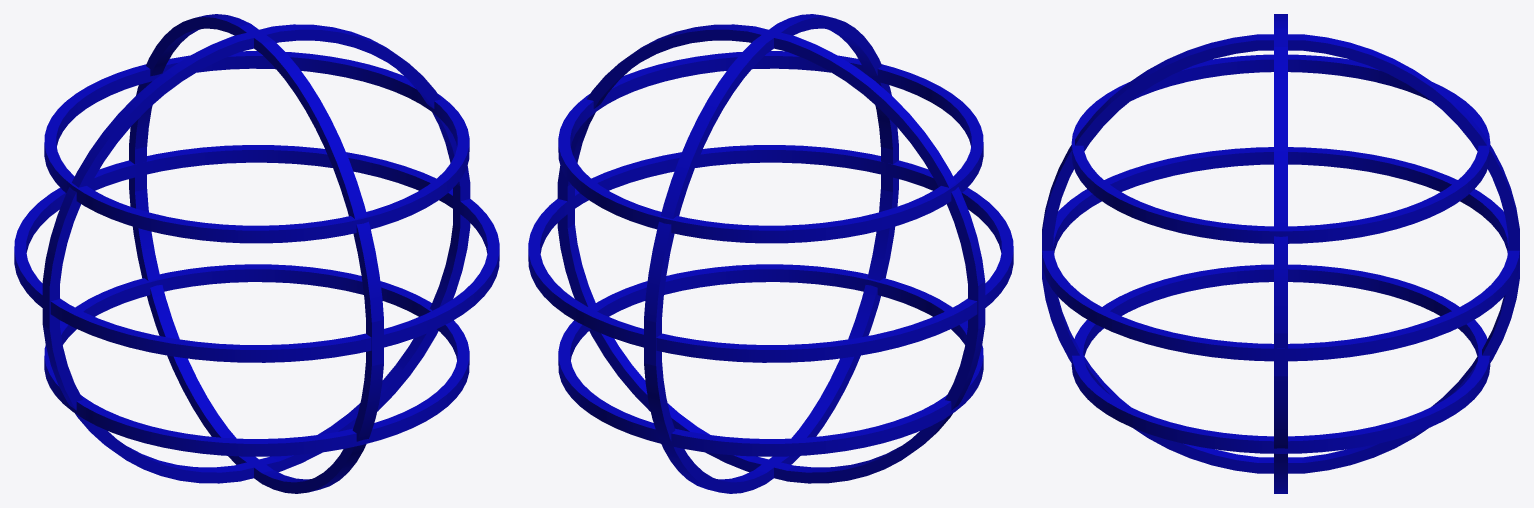
3 renders of one model, left to right at view 1: azimuth 30°, elevation 25°; view 2: azimuth 150°, elevation 25°; view 3: azimuth 270°, elevation 25°, orthographic.
Visible parts, largest first — view 1: totem_dach_www; view 2: totem_dach_www; view 3: totem_dach_www.
Part boxes in pixels (x1,y1,x2,y2): totem_dach_www: (14,14,499,493); totem_dach_www: (528,14,1013,493); totem_dach_www: (1042,14,1519,493).
Size of the model in its own units: 2.07 by 2.06 by 2.06.
